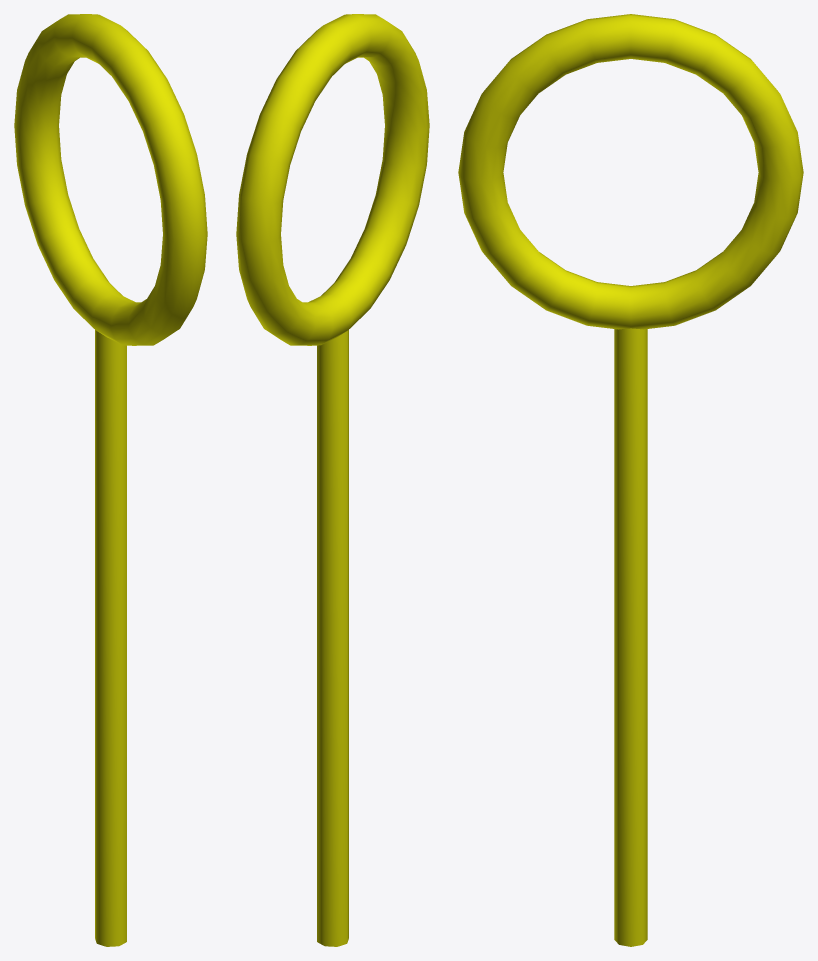
Rendered from ring1.fbx.
3 views of the same model, side by side, from view 1: azimuth 30°, elevation 25°; view 2: azimuth 150°, elevation 25°; view 3: azimuth 270°, elevation 25° (orthographic).
Parts seen in each view (by area): view 1: ring1, column1; view 2: ring1, column1; view 3: ring1, column1.
Boxes of the visible parts, bbox=[...] form: ring1: bbox=[14, 14, 207, 345]; column1: bbox=[95, 330, 126, 946]; ring1: bbox=[236, 14, 429, 345]; column1: bbox=[317, 330, 348, 946]; ring1: bbox=[458, 14, 803, 329]; column1: bbox=[614, 328, 647, 946].
Bounding box in the file's own units: 122 × 2753 × 933.
